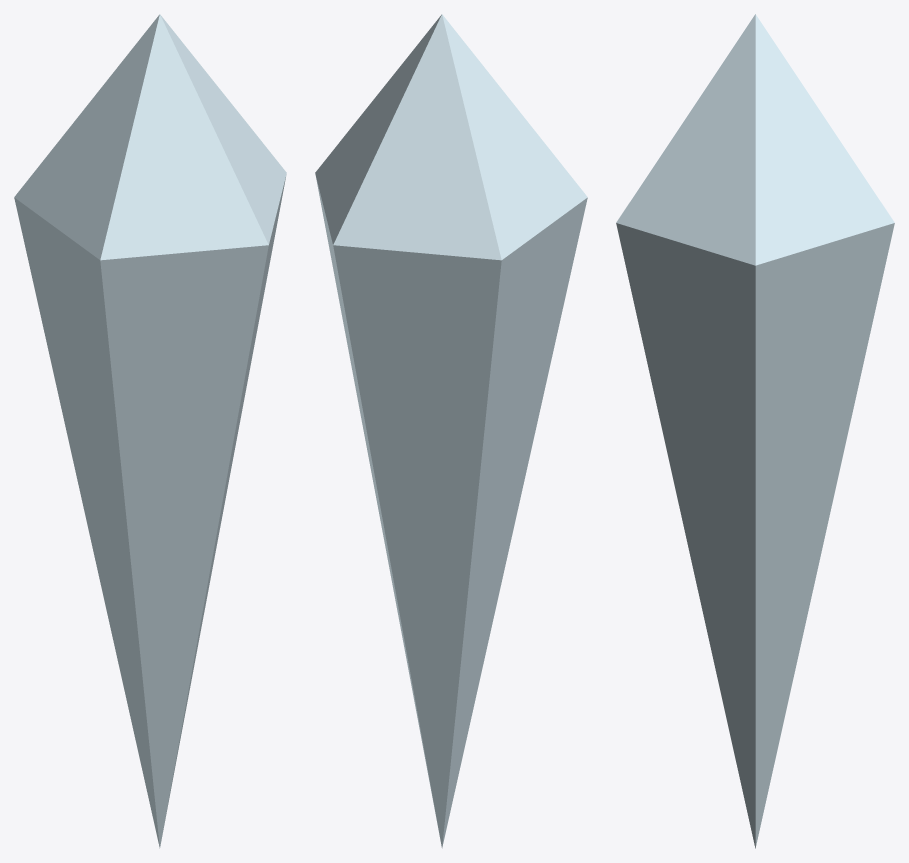
The model's file is cave_drop.glb.
The picture shows the model from 3 angles, left to right: view 1: azimuth 30°, elevation 25°; view 2: azimuth 150°, elevation 25°; view 3: azimuth 270°, elevation 25°; orthographic projection.
Parts seen in each view (by area): view 1: cave_drop; view 2: cave_drop; view 3: cave_drop.
Part boxes in pixels (bbox=[...]): cave_drop: bbox=[14, 14, 286, 848]; cave_drop: bbox=[315, 14, 587, 848]; cave_drop: bbox=[616, 14, 894, 848].
Bounding box in the file's own units: 0.0633 × 0.22 × 0.0666.
1 material, 1 textured.
